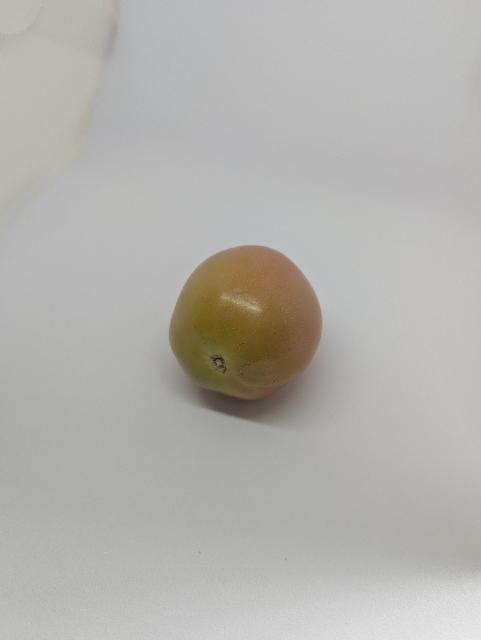breaker: (167, 243, 330, 404)
